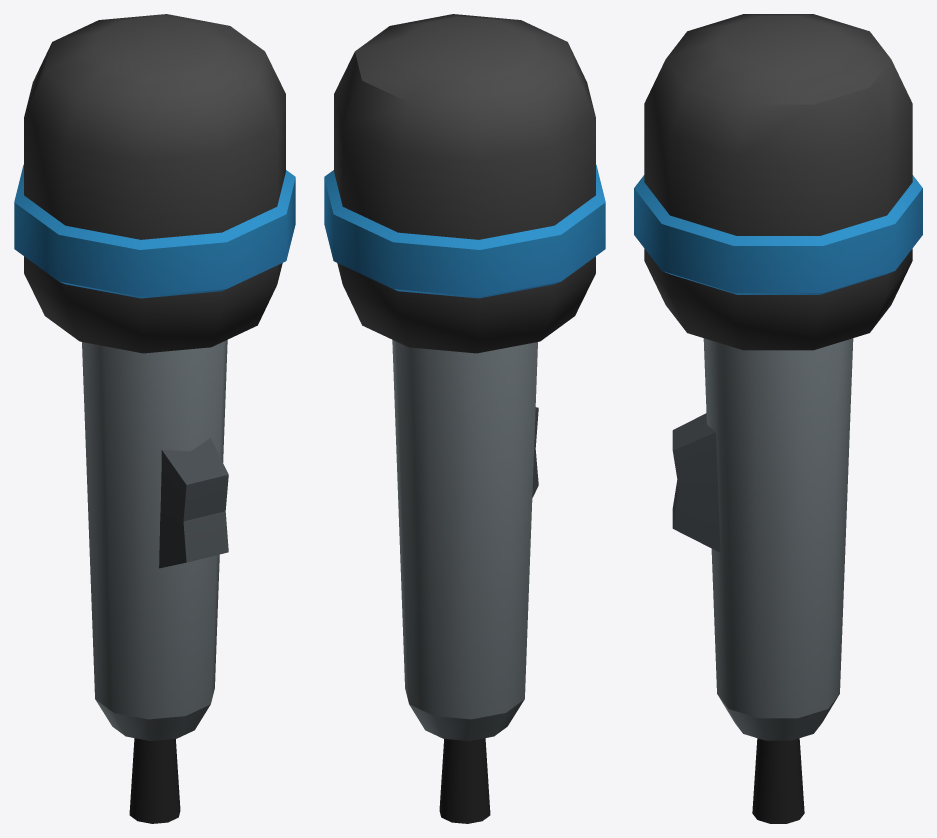
File: GothGirl_Microphone.obj
The picture shows the model from 3 angles, left to right: view 1: azimuth 30°, elevation 25°; view 2: azimuth 150°, elevation 25°; view 3: azimuth 270°, elevation 25°; orthographic projection.
Visible parts, largest first — view 1: GothGirl_Microphone; view 2: GothGirl_Microphone; view 3: GothGirl_Microphone.
Boxes of the visible parts, x1,y1,x2,y2 form: GothGirl_Microphone: (14,14,295,823); GothGirl_Microphone: (324,14,605,823); GothGirl_Microphone: (634,14,922,823).
Size of the model in its own units: 0.2279 by 0.7182 by 0.2396.
Materials: 1 (1 with a texture image).
